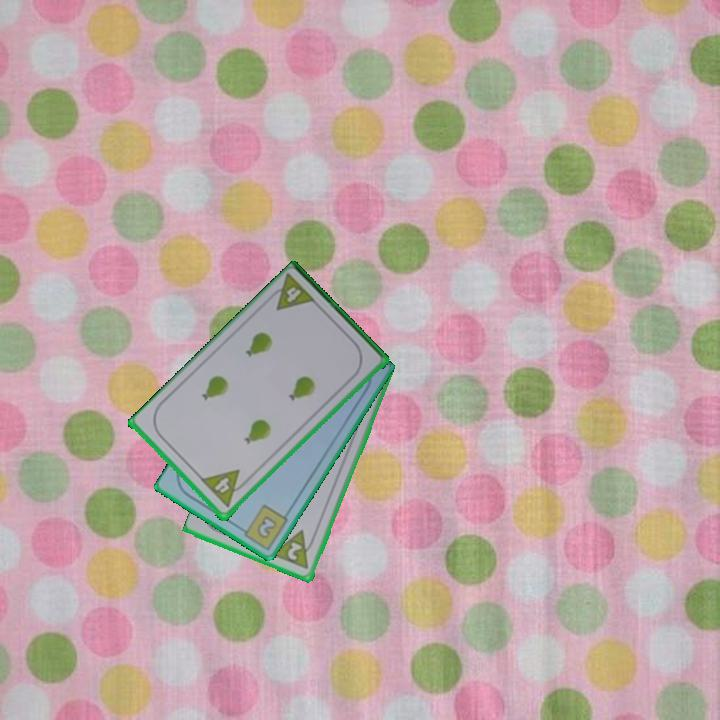2b: (235, 501, 291, 553)
2p: (270, 527, 319, 573)
4p: (200, 466, 240, 499), (282, 283, 304, 306)
